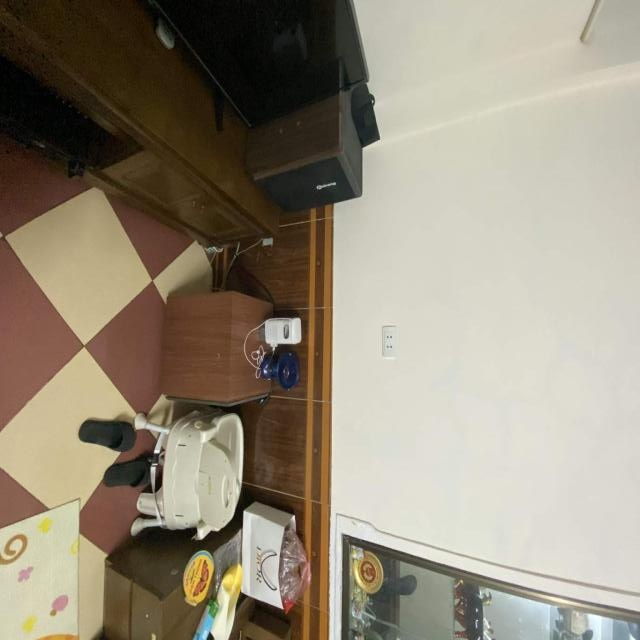outlet: (382, 325, 398, 358)
